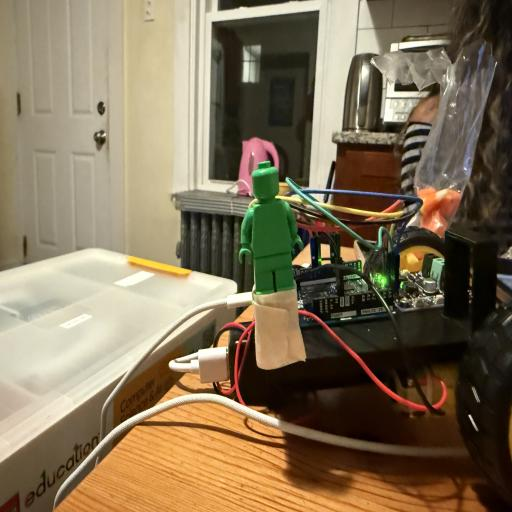Minifig: (239, 161, 303, 294)
